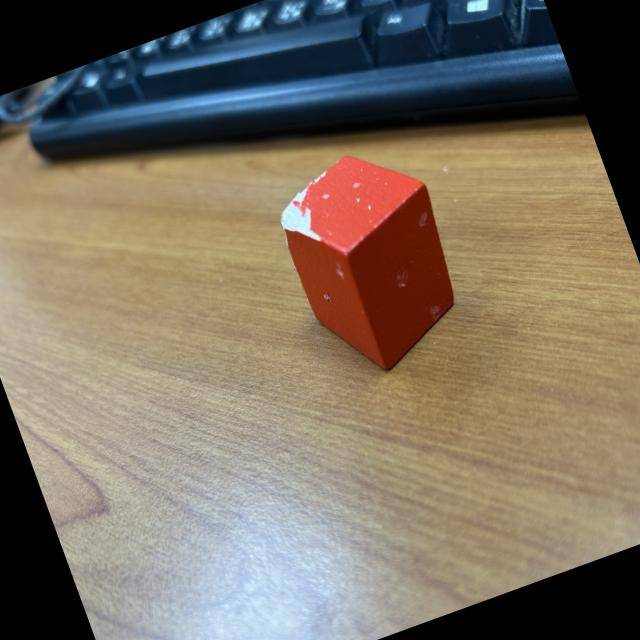broken: (263, 131, 484, 389)
